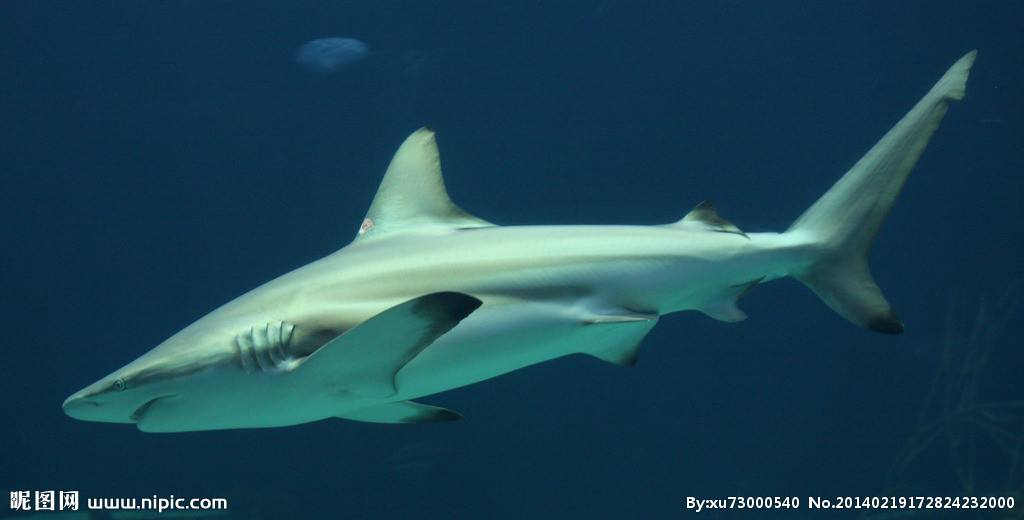shark: (59, 43, 978, 436)
